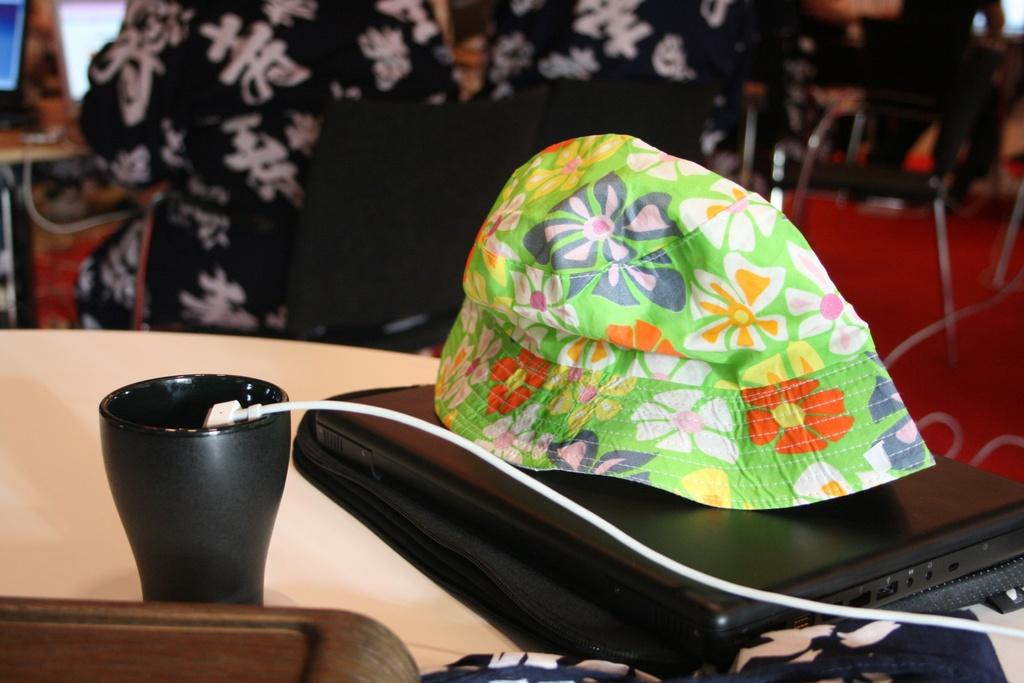Hat: (433, 129, 938, 513)
